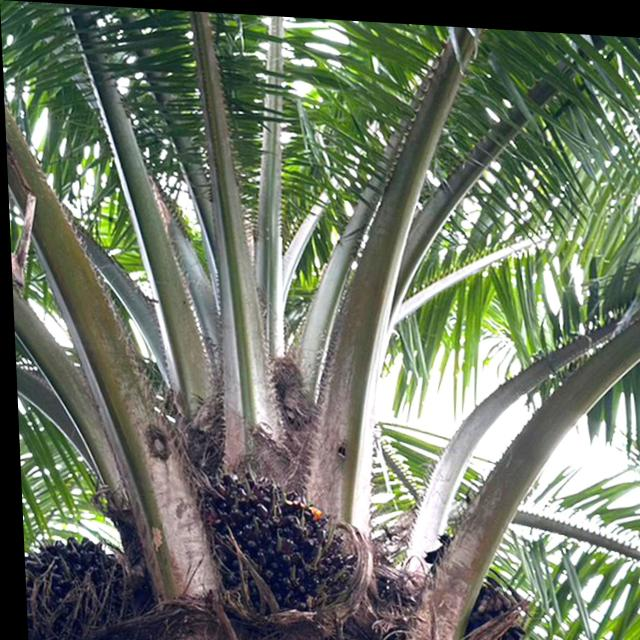almost: (188, 460, 362, 618)
